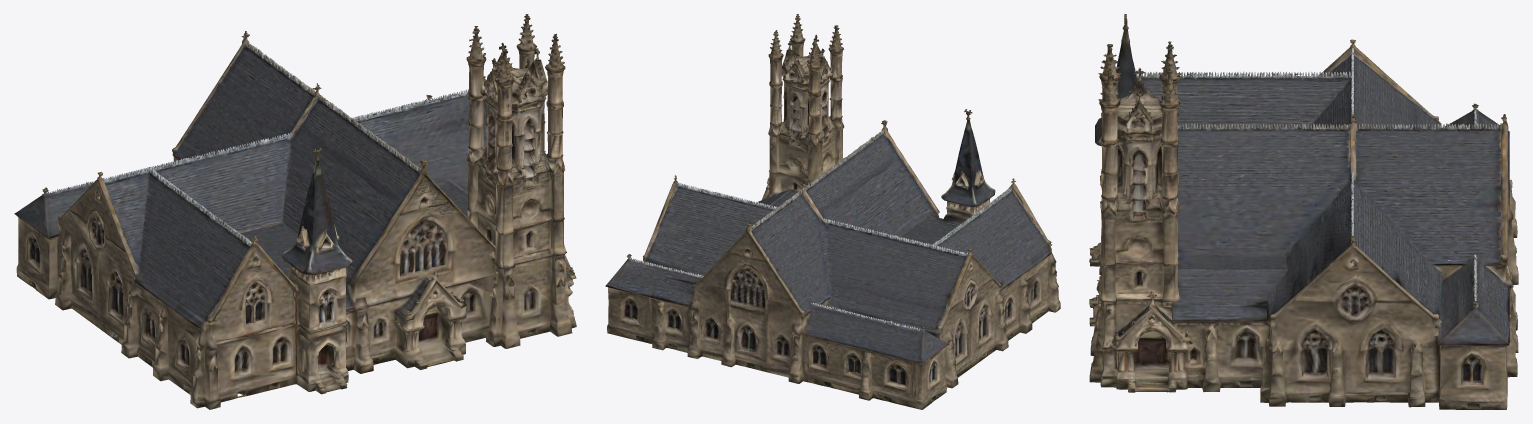
File: st-pauls.glb
3 renders of one model, left to right at view 1: azimuth 30°, elevation 25°; view 2: azimuth 150°, elevation 25°; view 3: azimuth 270°, elevation 25°, orthographic. The views are drawn at different scales.
Parts seen in each view (by area): view 1: tripo_node_4228d861-d3af-42cc-bbe0-3399181638b8; view 2: tripo_node_4228d861-d3af-42cc-bbe0-3399181638b8; view 3: tripo_node_4228d861-d3af-42cc-bbe0-3399181638b8.
Boxes of the visible parts, bbox=[...] form: tripo_node_4228d861-d3af-42cc-bbe0-3399181638b8: bbox=[14, 14, 576, 409]; tripo_node_4228d861-d3af-42cc-bbe0-3399181638b8: bbox=[605, 14, 1060, 409]; tripo_node_4228d861-d3af-42cc-bbe0-3399181638b8: bbox=[1089, 14, 1518, 409].
Size of the model in its own units: 0.977 by 0.662 by 0.8282.
1 material, 1 textured.
